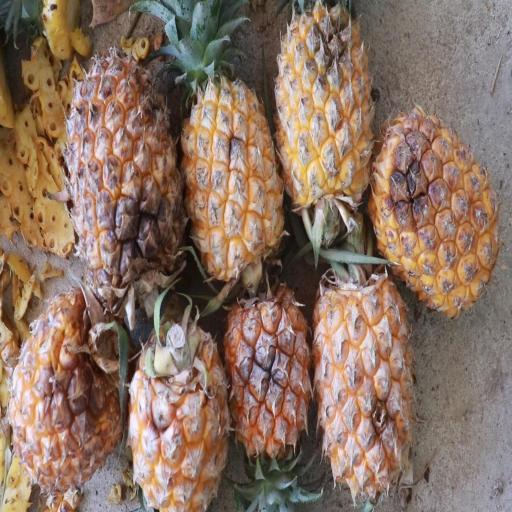Pineapple - v8 v1: (60, 41, 190, 318), (366, 88, 502, 322), (175, 11, 291, 282), (310, 255, 421, 512), (8, 272, 128, 508), (274, 0, 378, 229), (120, 301, 232, 511), (220, 274, 314, 506)
